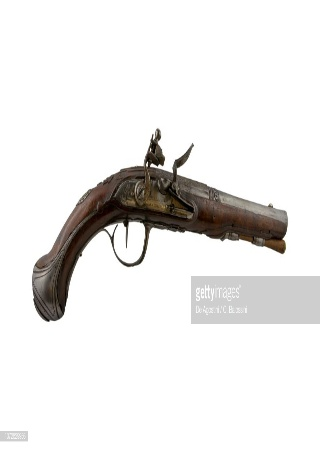handgun: (32, 127, 289, 321)
